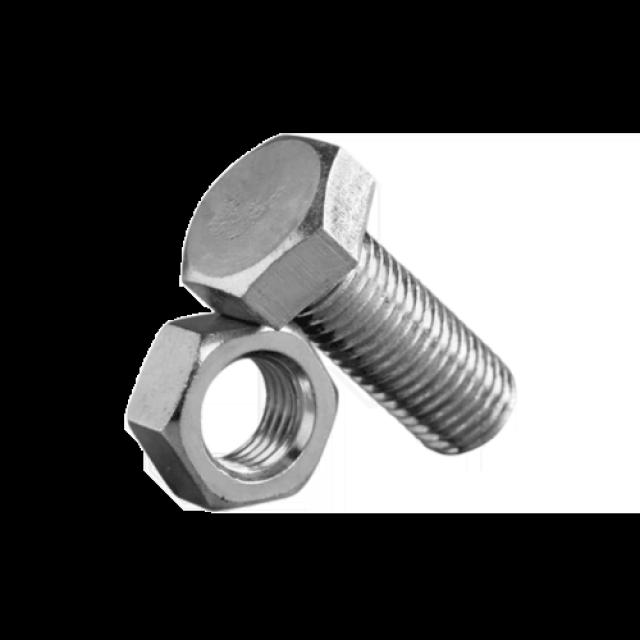Logam: (114, 110, 562, 551)
